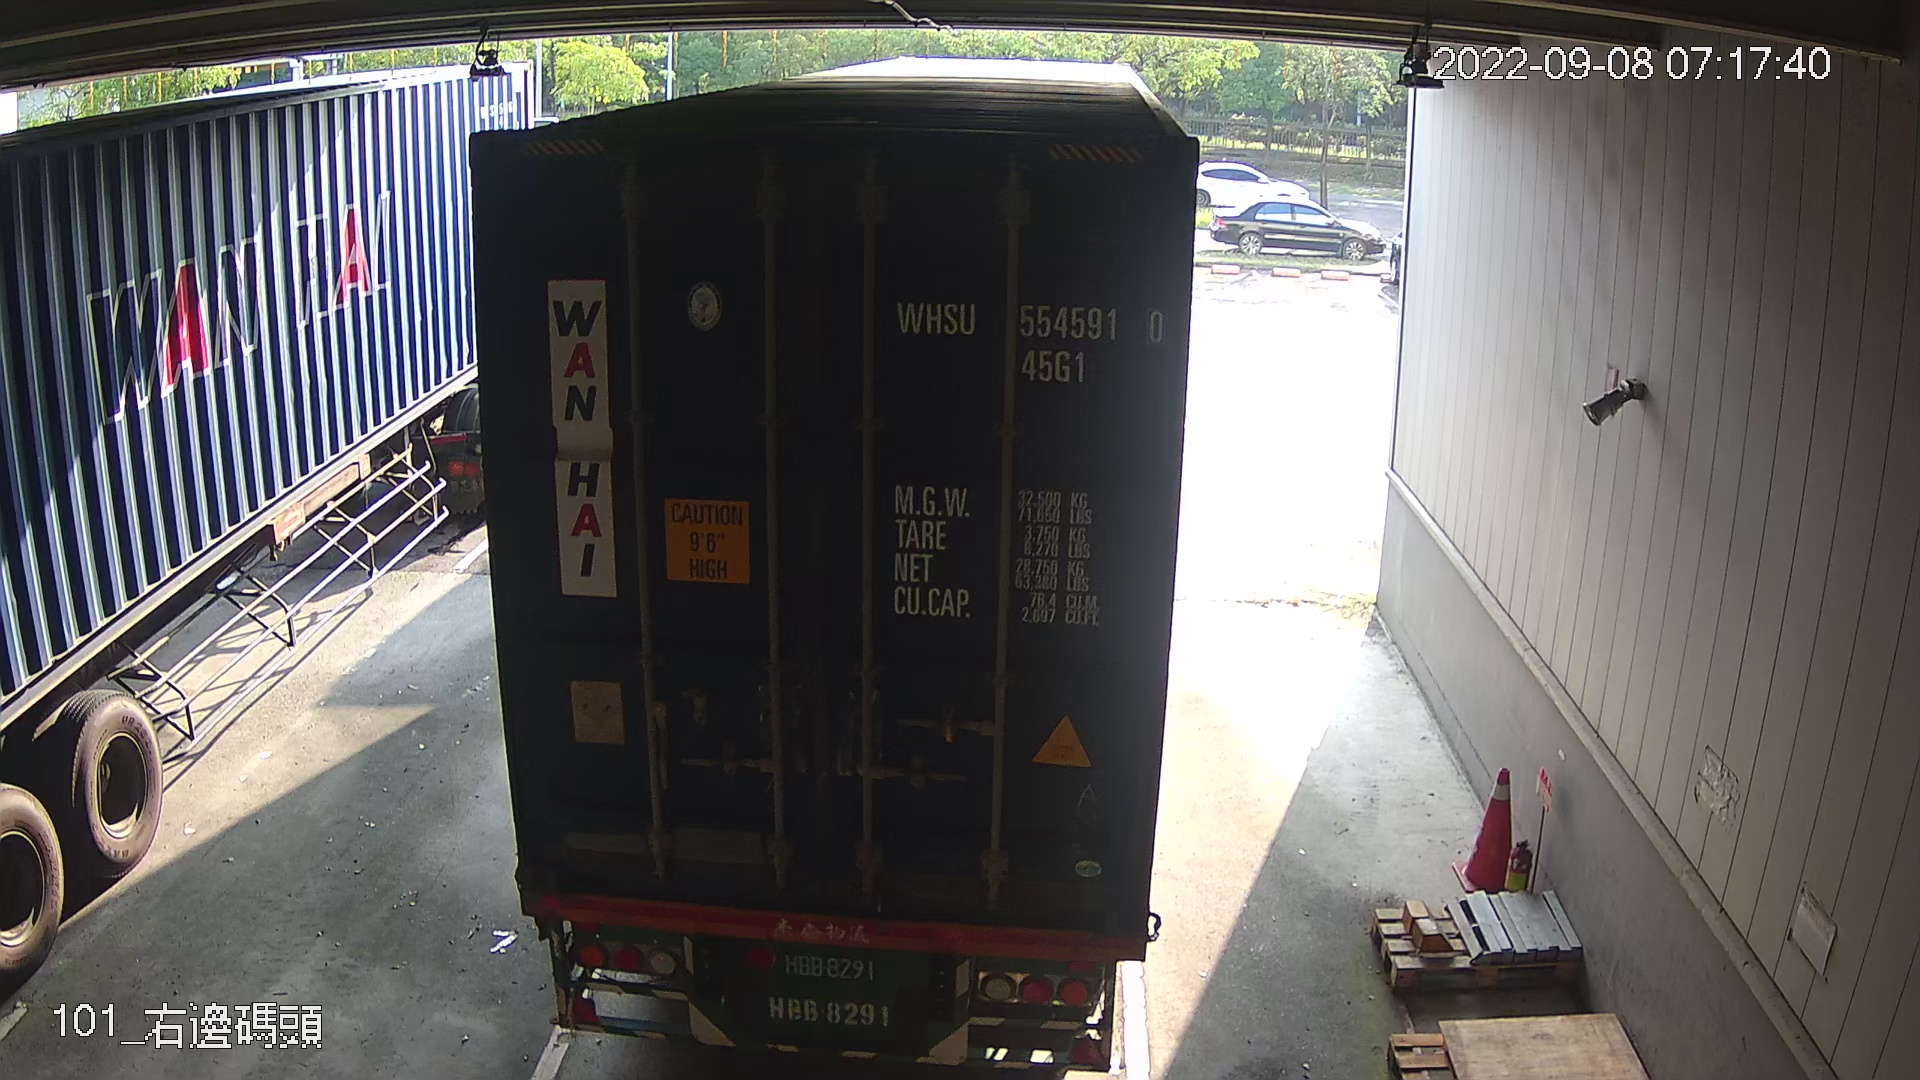container: (887, 287, 1172, 394)
